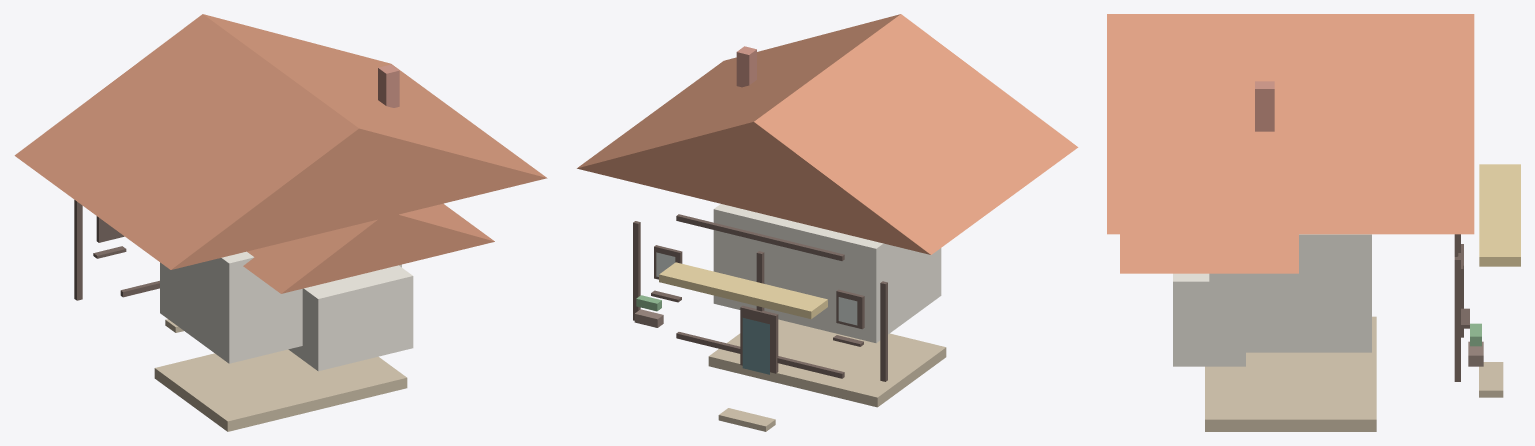
Rendered from ravnbro-bakery.glb.
The picture shows the model from 3 angles, left to right: view 1: azimuth 30°, elevation 25°; view 2: azimuth 150°, elevation 25°; view 3: azimuth 270°, elevation 25°; orthographic projection. The views are drawn at different scales.
Parts seen in each view (by area): view 1: roof, plinth, body, wing_roof, wing, up_-1.18, chimney; view 2: roof, body, plinth, awning, door, beam_1.62, door_frame, beam_0.55, step, up_-1.18, chimney, up_1.18 (+2 smaller); view 3: roof, body, plinth, wing_roof, awning, wing, chimney, step, up_1.18.
Boxes of the visible parts, x1,y1,x2,y2 form: roof: (14, 14, 547, 269); plinth: (154, 349, 407, 431); body: (160, 251, 401, 363); wing_roof: (243, 203, 494, 293); wing: (288, 265, 413, 371); up_-1.18: (74, 200, 82, 300); chimney: (378, 64, 399, 107); roof: (577, 14, 1078, 254); body: (713, 204, 941, 343); plinth: (708, 319, 946, 407); awning: (659, 262, 827, 319); door: (742, 318, 769, 374); beam_1.62: (676, 214, 844, 260); door_frame: (740, 305, 778, 373); beam_0.55: (676, 332, 844, 378); step: (718, 408, 775, 431); up_-1.18: (880, 281, 887, 381); chimney: (736, 46, 756, 87); up_1.18: (633, 221, 640, 320); roof: (1107, 14, 1474, 234); body: (1209, 234, 1371, 352); plinth: (1205, 316, 1376, 431); wing_roof: (1120, 234, 1298, 273); awning: (1479, 164, 1520, 266); wing: (1173, 273, 1245, 366); chimney: (1255, 81, 1274, 131); step: (1479, 362, 1503, 397); up_1.18: (1454, 257, 1460, 381).
Size of the model in its own units: 3.38 by 2.7 by 2.74.
